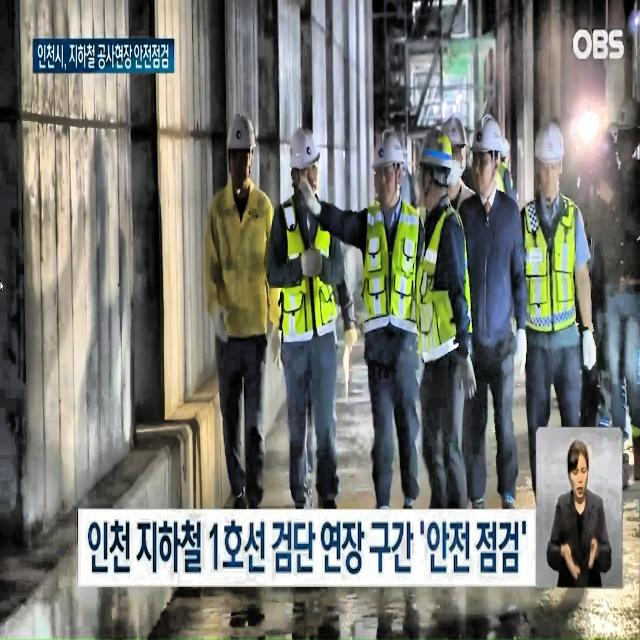safety_helmet: (469, 106, 509, 158), (225, 112, 259, 162), (536, 124, 571, 168), (420, 129, 452, 176), (370, 129, 405, 171), (288, 123, 321, 167), (438, 111, 468, 153)
safety_jacket: (521, 188, 583, 337), (278, 195, 340, 342), (418, 196, 471, 359), (360, 200, 420, 333)
